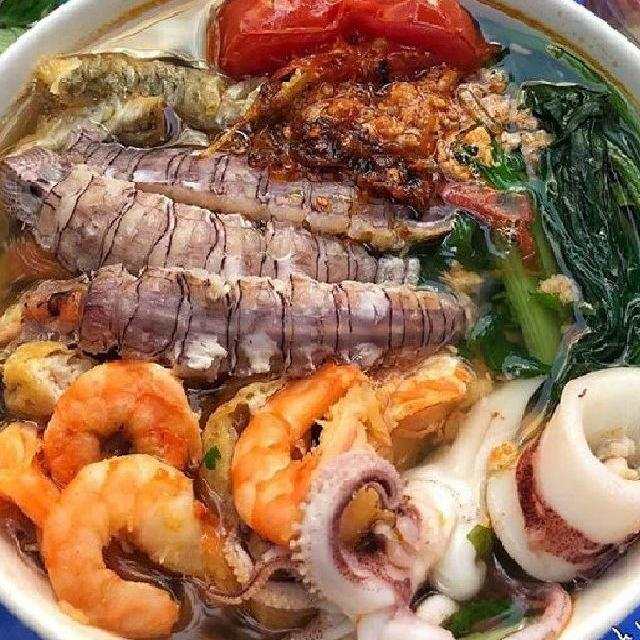muc: (180, 442, 586, 640), (480, 354, 640, 592)
tom: (226, 338, 484, 558), (29, 445, 261, 640), (32, 348, 210, 518)
tom tit: (0, 253, 497, 397), (0, 138, 429, 302), (35, 120, 472, 264)
